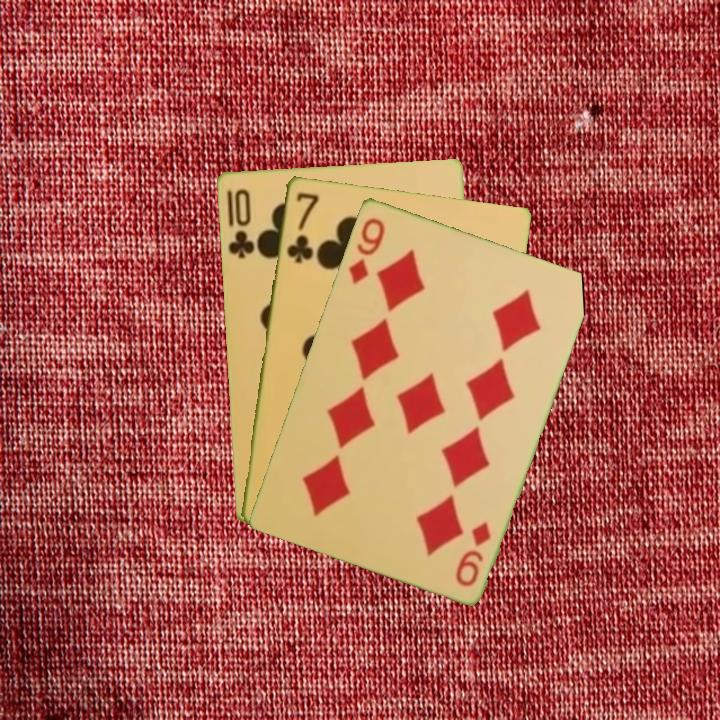10c: (223, 185, 257, 261)
7c: (283, 188, 321, 265)
9d: (344, 213, 388, 287), (451, 517, 494, 589)
